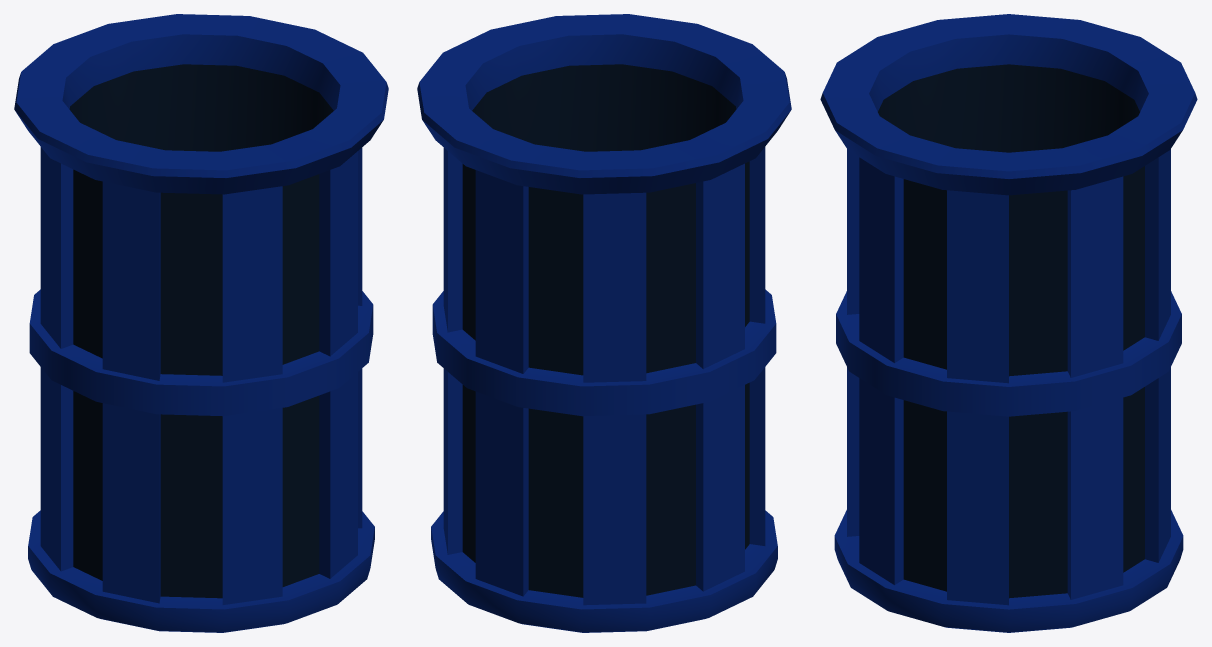
The model's file is Trashcan01.fbx.
3 views of the same model, side by side, from view 1: azimuth 30°, elevation 25°; view 2: azimuth 150°, elevation 25°; view 3: azimuth 270°, elevation 25° (orthographic).
Parts seen in each view (by area): view 1: Trashcan; view 2: Trashcan; view 3: Trashcan.
Boxes of the visible parts, x1=… form: Trashcan: x1=14, y1=14, x2=388, y2=632; Trashcan: x1=417, y1=14, x2=791, y2=632; Trashcan: x1=820, y1=14, x2=1197, y2=632.
Bounding box in the file's own units: 78.35 × 108 × 78.35.
